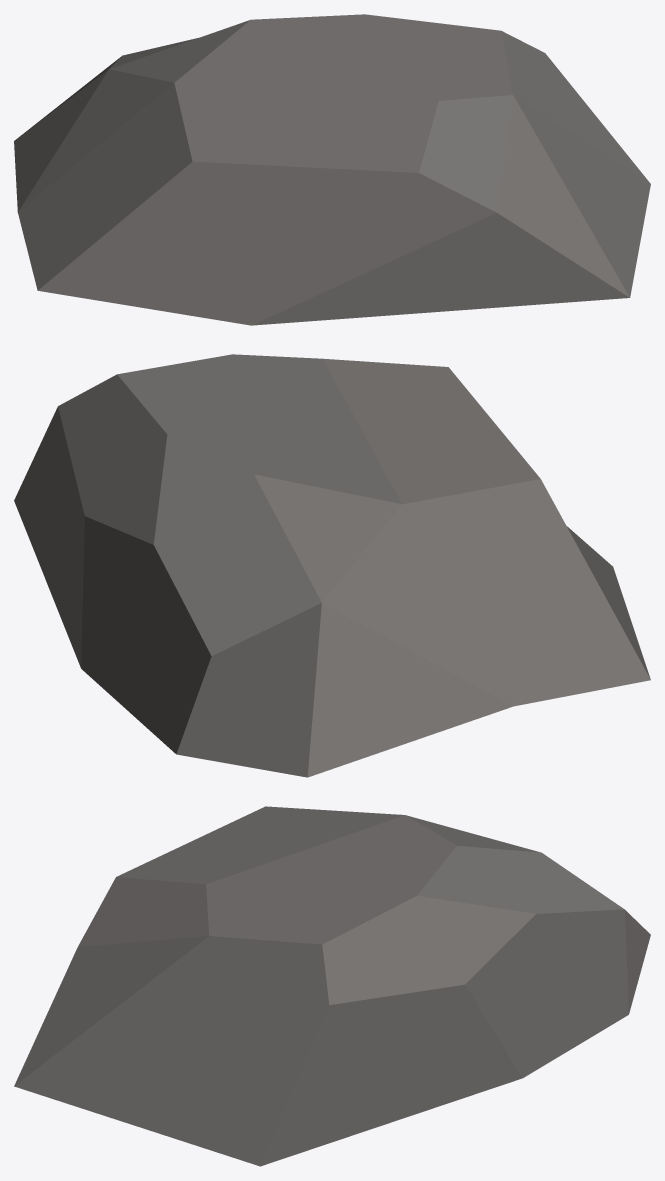
File: Rock3.fbx
The picture shows the model from 3 angles, top to bottom: view 1: azimuth 30°, elevation 25°; view 2: azimuth 150°, elevation 25°; view 3: azimuth 270°, elevation 25°; orthographic projection. The views are drawn at different scales.
Parts seen in each view (by area): view 1: Rock3; view 2: Rock3; view 3: Rock3.
Boxes of the visible parts, <box> form: Rock3: <box>14,14,650,325</box>; Rock3: <box>14,354,650,777</box>; Rock3: <box>14,806,650,1166</box>.
Size of the model in its own units: 81.97 by 23.59 by 76.6.
